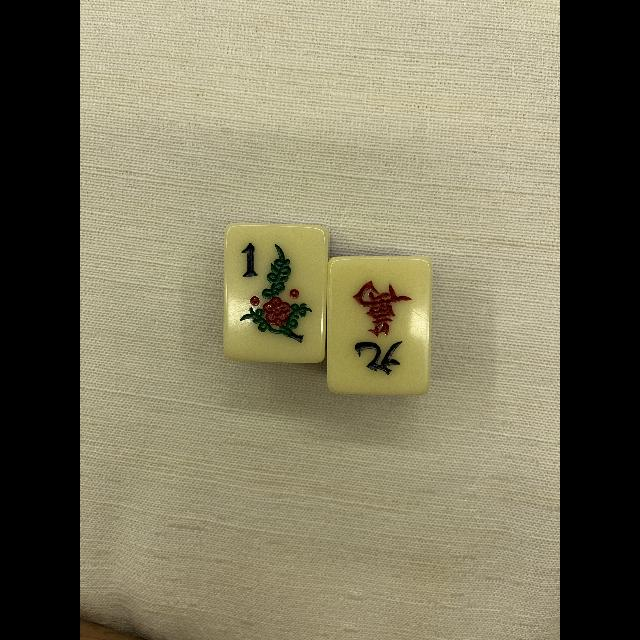c9: (329, 259, 426, 391)
f1-s: (228, 226, 322, 360)
